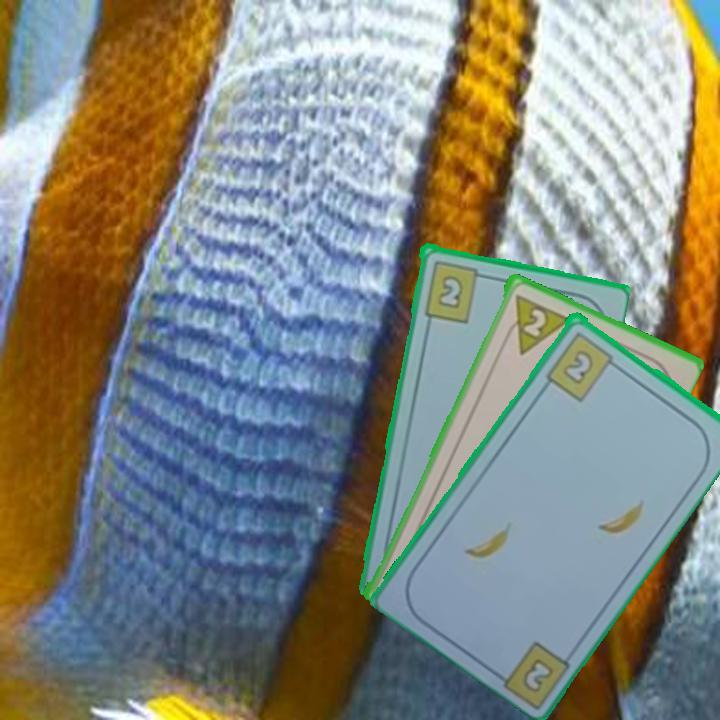2b: (542, 327, 622, 404), (420, 257, 489, 325), (518, 653, 557, 696)
2p: (500, 290, 571, 357)
